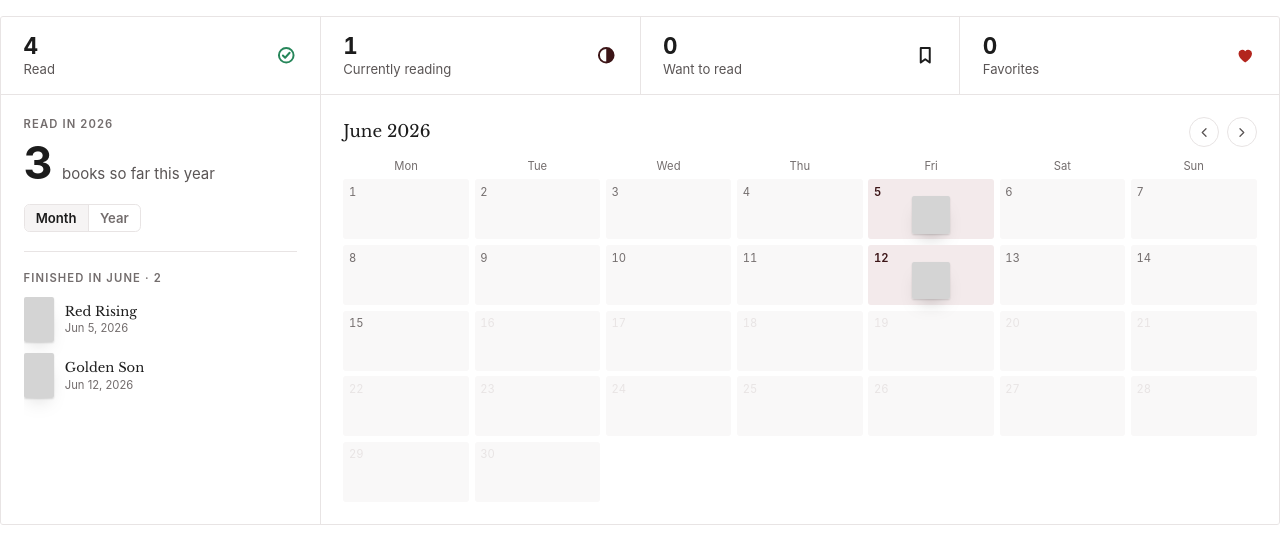
Test: ReadingStats › should show an empty month after stepping forward
Click the button named "Next month" at (1242, 132), box [1226,117,1256,147]
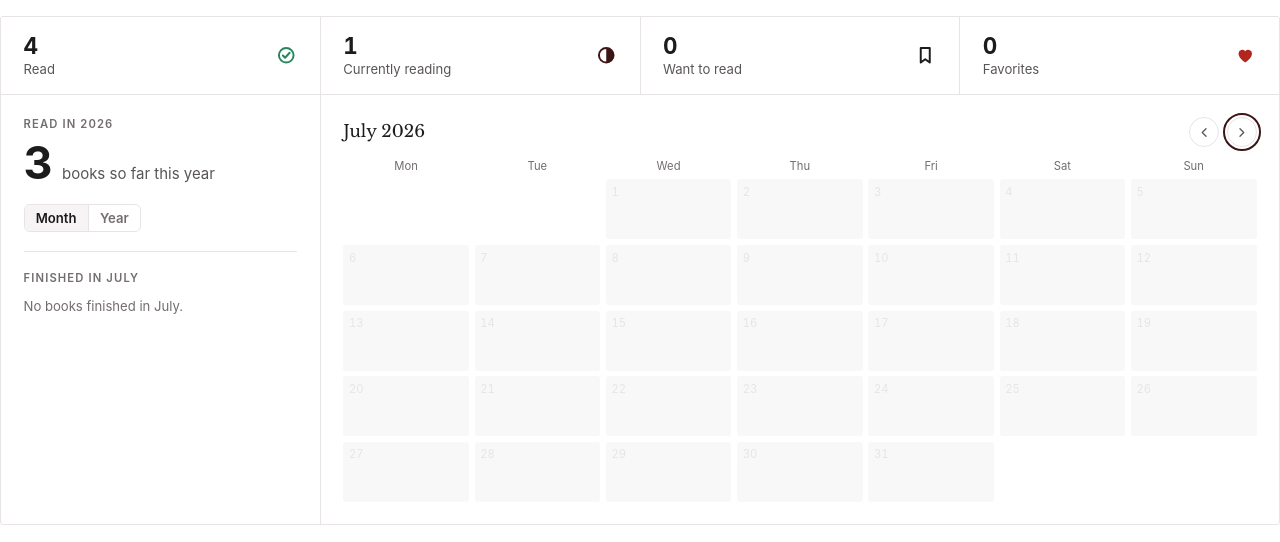
Now the text "July 2026" is shown, box [343,119,425,146]
Now the text "Finished in July" is shown, box [24,271,139,285]
Now the text "No books finished in July." is shown, box [24,298,183,314]
